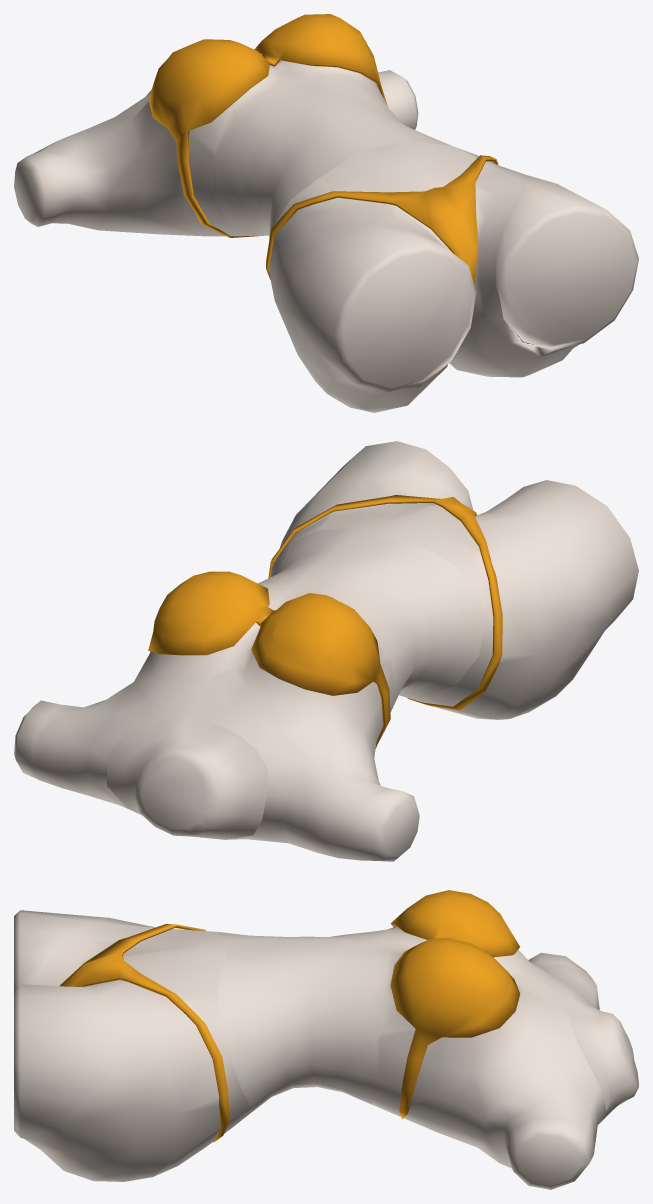
The model's file is Bikini.fbx.
3 views of the same model, one above another, from view 1: azimuth 30°, elevation 25°; view 2: azimuth 150°, elevation 25°; view 3: azimuth 270°, elevation 25° (orthographic). The views are drawn at different scales.
Parts seen in each view (by area): view 1: BaseFem; view 2: BaseFem; view 3: BaseFem.
Boxes of the visible parts, x1,y1,x2,y2 form: BaseFem: [14, 14, 638, 412]; BaseFem: [14, 441, 638, 861]; BaseFem: [14, 890, 638, 1189].
Bounding box in the file's own units: 6.17 × 3.61 × 9.06.
